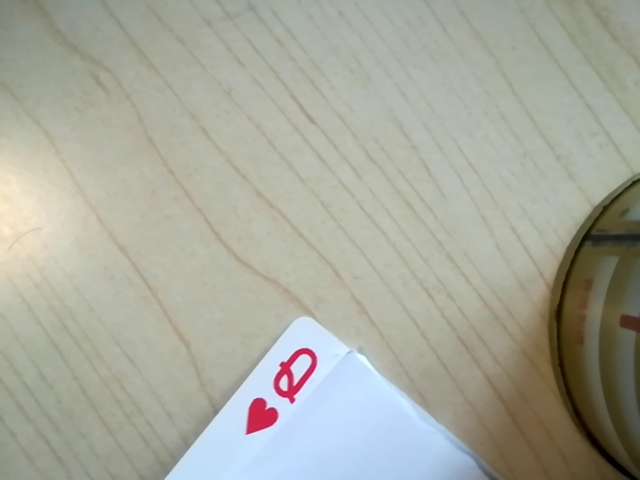hx q: (242, 339, 328, 433)
